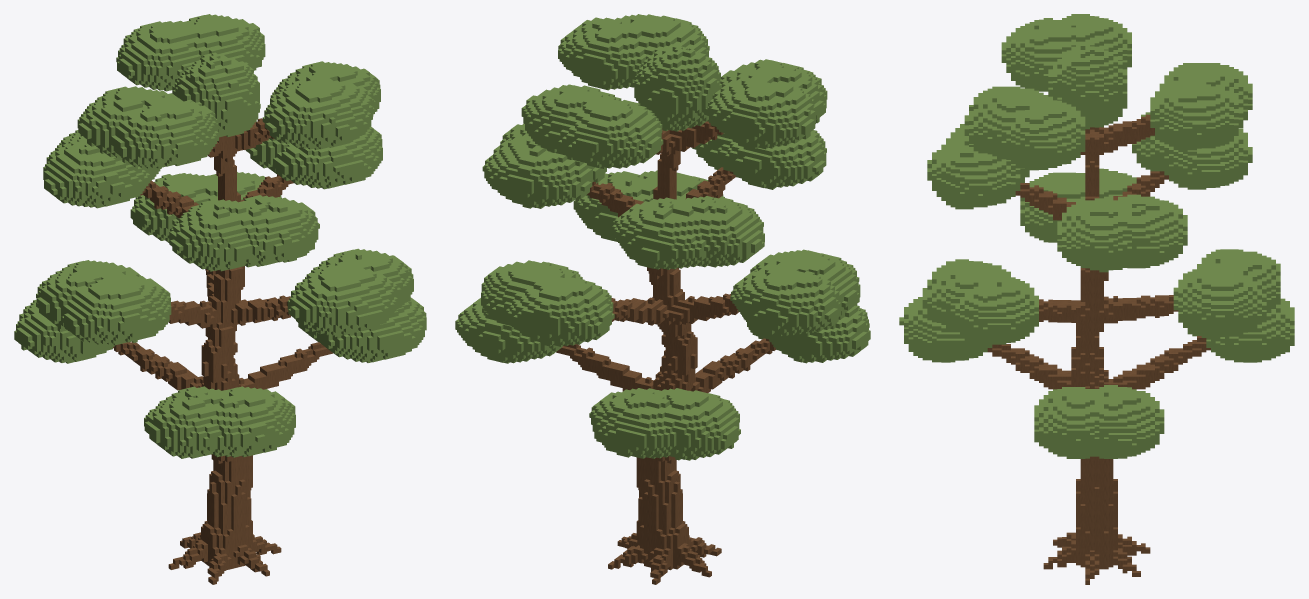
3 renders of one model, left to right at view 1: azimuth 30°, elevation 25°; view 2: azimuth 150°, elevation 25°; view 3: azimuth 270°, elevation 25°, orthographic.
Visible parts, largest first — view 1: 既有乔木色阶与高度族; view 2: 既有乔木色阶与高度族; view 3: 既有乔木色阶与高度族.
Part boxes in pixels (x1,y1,x2,y2): 既有乔木色阶与高度族: (14, 14, 426, 584); 既有乔木色阶与高度族: (455, 14, 870, 584); 既有乔木色阶与高度族: (899, 14, 1294, 584).
Size of the model in its own units: 18 by 24 by 17.
Materials: 3 (3 with a texture image).
